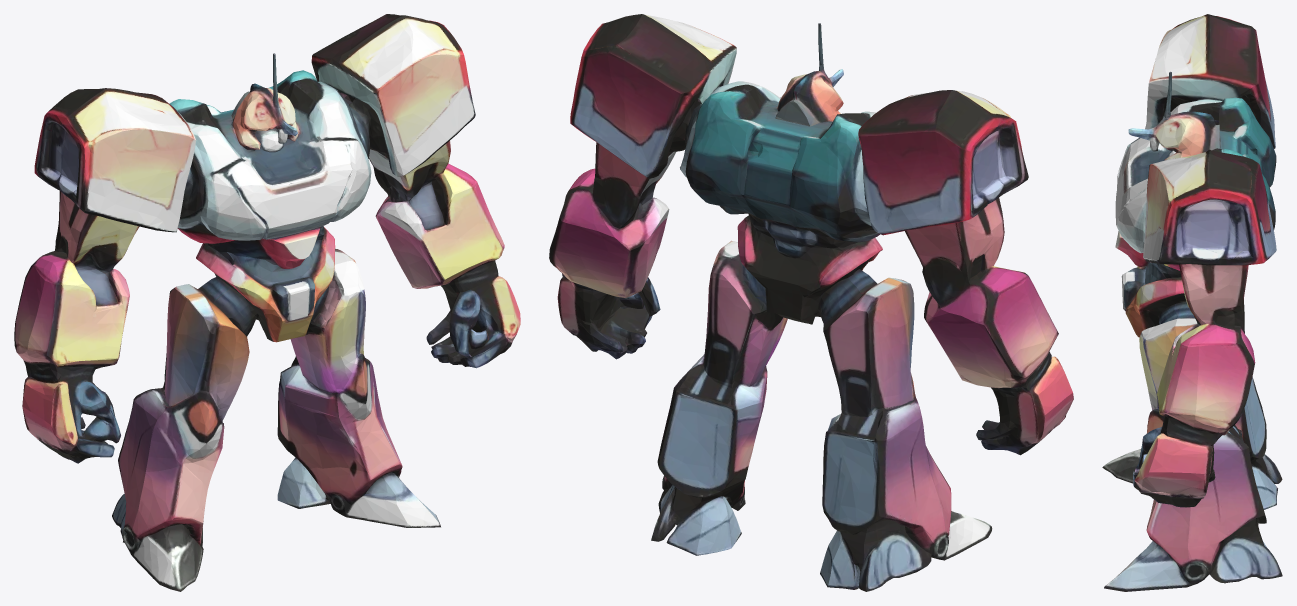
The model's file is robot_large.glb.
3 views of the same model, side by side, from view 1: azimuth 30°, elevation 25°; view 2: azimuth 150°, elevation 25°; view 3: azimuth 270°, elevation 25° (orthographic). The views are drawn at different scales.
Parts seen in each view (by area): view 1: geometry_0; view 2: geometry_0; view 3: geometry_0.
Boxes of the visible parts, <box> form: geometry_0: <box>14,14,520,591</box>; geometry_0: <box>549,14,1073,591</box>; geometry_0: <box>1102,14,1282,591</box>.
Size of the model in its own units: 2.42 by 2.4 by 0.8484.
1 material, 1 textured.
